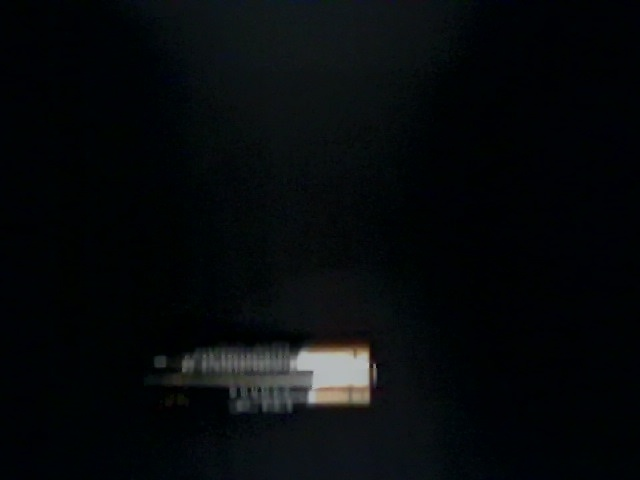YHLJ: (381, 34, 503, 292)
